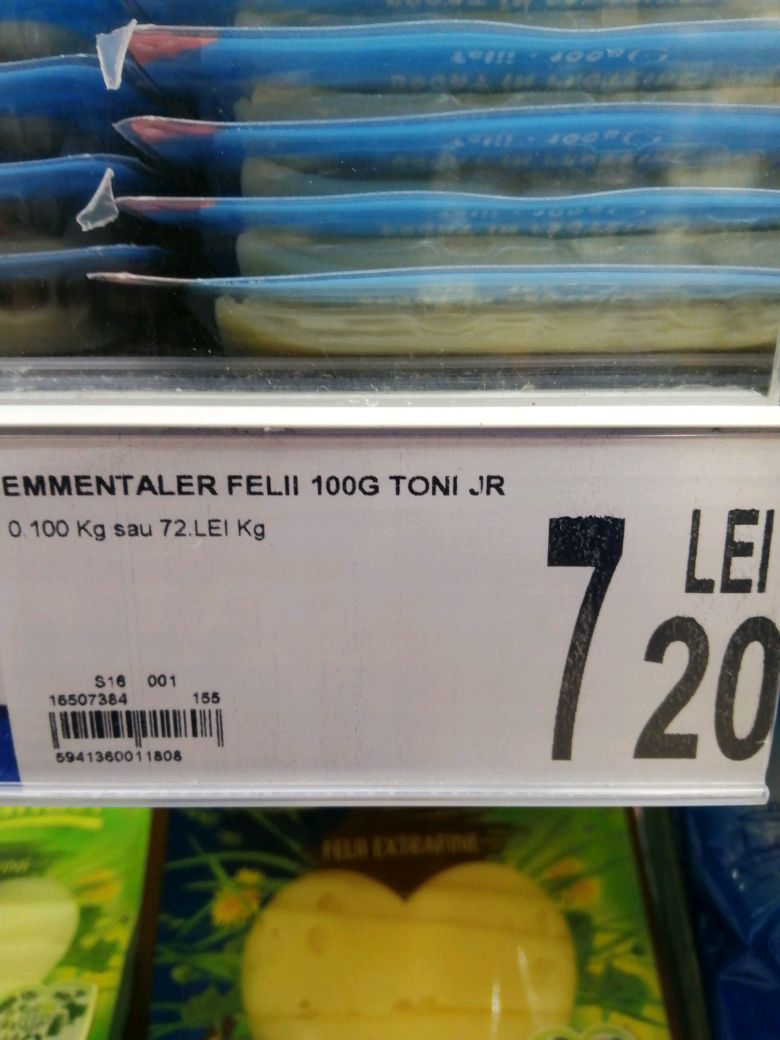price_bani: (631, 607, 775, 765)
price_lei: (530, 510, 628, 768)
price_tag: (1, 423, 780, 808)
product_id: (41, 746, 193, 766)
product_name: (4, 457, 515, 507)
